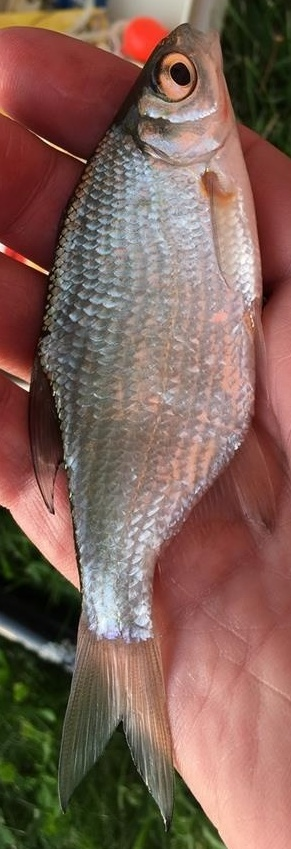Blicca bjoerkna: (20, 20, 271, 829)
